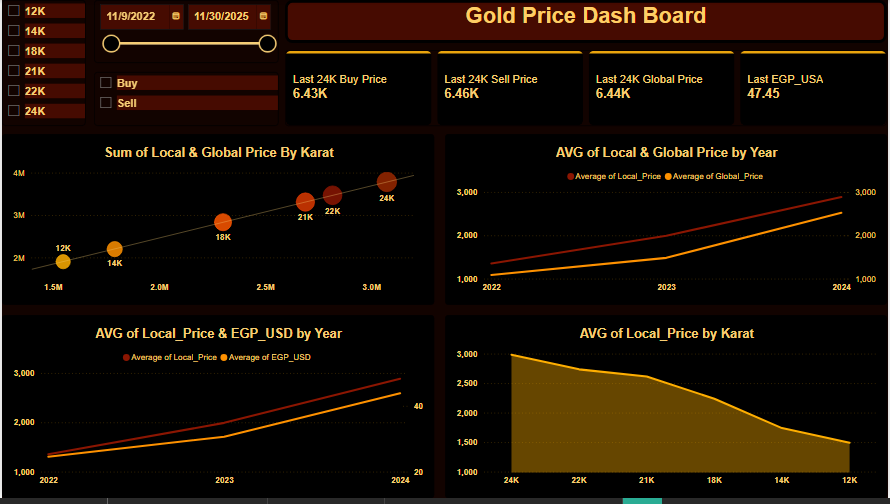

The dashboard page shown, as its layout file describes it:
{"tool":"powerbi","page":{"name":"Overall Market Trends","canvas":[1280,720],"ordinal":0},"visuals":[{"type":"lineChart","title":"AVG of Local_Price & EGP_USD by Year","fields":{"Category":["Date_Table.Date Hierarchy.Date","Date_Table.Date Hierarchy.Year","Date_Table.Date Hierarchy.Quarter","Date_Table.Date Hierarchy.Month Name","Date_Table.Date Hierarchy.Day of Week"],"Y2":["Avg(Gold_Price_Table.EGP_USD)"],"Y":["Avg(Gold_Price_Table.Local_Price)"]},"box":[0,455.4,624.6,264.6],"z":0},{"type":"lineChart","title":"AVG of Local & Global Price by Year","fields":{"Category":["Date_Table.Date Hierarchy.Date","Date_Table.Date Hierarchy.Year","Date_Table.Date Hierarchy.Quarter","Date_Table.Date Hierarchy.Month Name","Date_Table.Date Hierarchy.Month Year Sort","Date_Table.Date Hierarchy.Day of Week"],"Y":["Avg(Gold_Price_Table.Local_Price)"],"Y2":["Avg(Gold_Price_Table.Global_Price)"]},"box":[640.5,193.7,639,247.2],"z":1000},{"type":"areaChart","title":"AVG of Local_Price by Karat","fields":{"Category":["Gold_Price_Table.Karat"],"Y":["Avg(Gold_Price_Table.Local_Price)"]},"box":[640.5,455.4,639,264.6],"z":2000},{"type":"cardVisual","fields":{"Data":["Gold_Price_Table.Last 24K Buy Price","Gold_Price_Table.Last 24K Sell Price","Gold_Price_Table.Last 24K Global Price","Gold_Price_Table.Last EGP_USA"]},"box":[409.2,72.3,870.4,109.9],"z":3000},{"type":"scatterChart","title":"Sum of Local & Global Price By Karat","fields":{"X":["Sum(Gold_Price_Table.Global_Price)"],"Y":["Sum(Gold_Price_Table.Local_Price)"],"Series":["Gold_Price_Table.Karat"],"Size":["Sum(Gold_Price_Table.Local_Price)"]},"box":[0,193.7,624.6,247.2],"z":4000},{"type":"slicer","fields":{"Values":["Date_Table.Date"]},"box":[133,0,267.5,91.1],"z":5000},{"type":"slicer","fields":{"Values":["Gold_Price_Table.Karat"]},"box":[0,0,121.4,182.2],"z":6000},{"type":"slicer","fields":{"Values":["Gold_Price_Table.Type"]},"box":[133,104.1,267.5,78.1],"z":7000},{"type":"textbox","box":[409.2,0,870.4,62.2],"z":8000}]}

Visuals, with their boxes in screenshot pixels (x1, y1, x2, y2), scaled from the page's 1280x720 canvas onto the 890x504 screenshot:
"AVG of Local_Price & EGP_USD by Year" lineChart: 0:319:434:503
"AVG of Local & Global Price by Year" lineChart: 445:136:889:309
"AVG of Local_Price by Karat" areaChart: 445:319:889:503
cardVisual - Gold_Price_Table.Last 24K Buy Price x Gold_Price_Table.Last 24K Sell Price: 285:51:889:128
"Sum of Local & Global Price By Karat" scatterChart: 0:136:434:309
slicer - Date_Table.Date: 92:0:278:64
slicer - Gold_Price_Table.Karat: 0:0:84:128
slicer - Gold_Price_Table.Type: 92:73:278:128
textbox: 285:0:889:44
